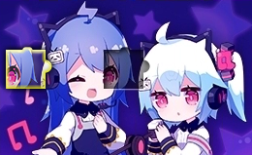gap: (104, 47, 150, 89)
